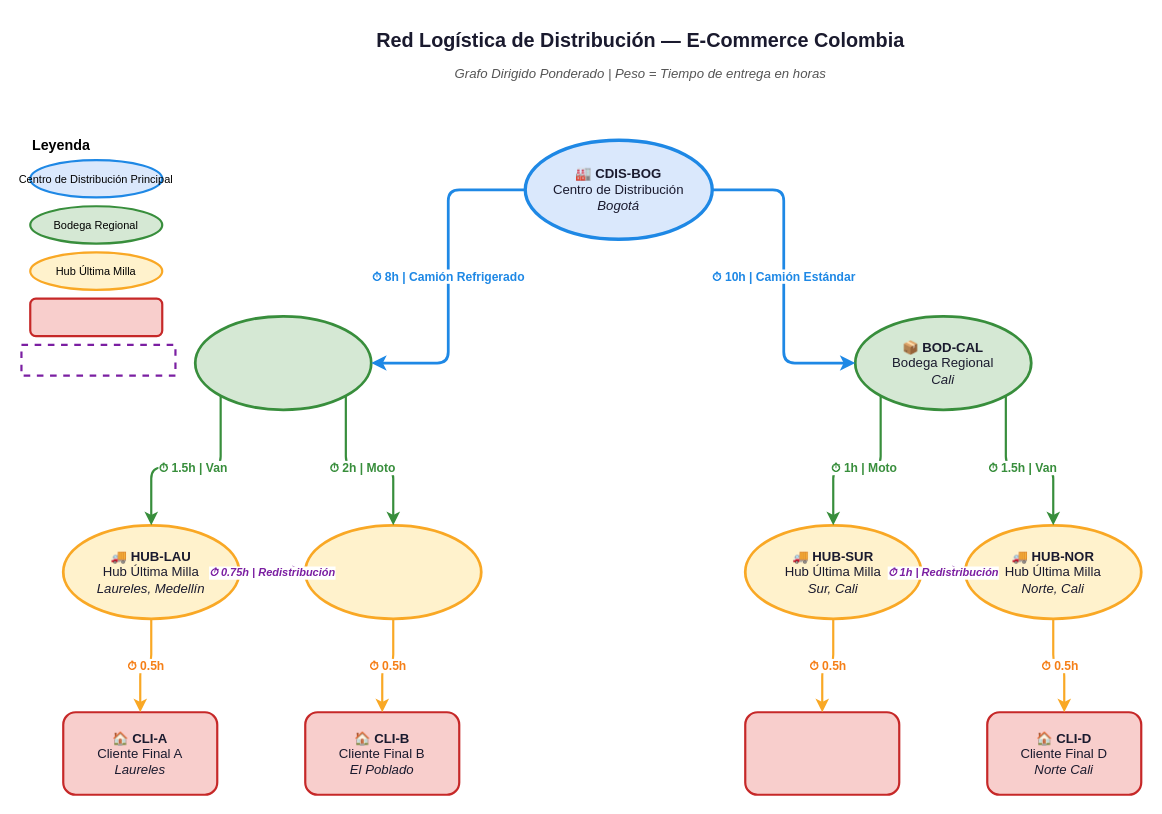
Some shapes in this 1162 by 814 pixel diagram are drawn without their labels. Each missing label, with the centre of its shape:
Cliente Final: the point at 96,317
Redistribución entre hubs: the point at 98,359
🏠 CLI-C Cliente Final C Sur Cali: the point at 822,753
📦 BOD-MED Bodega Regional Medellín: the point at 282,362
🚚 HUB-POB Hub Última Milla El Poblado, Medellín: the point at 392,571
